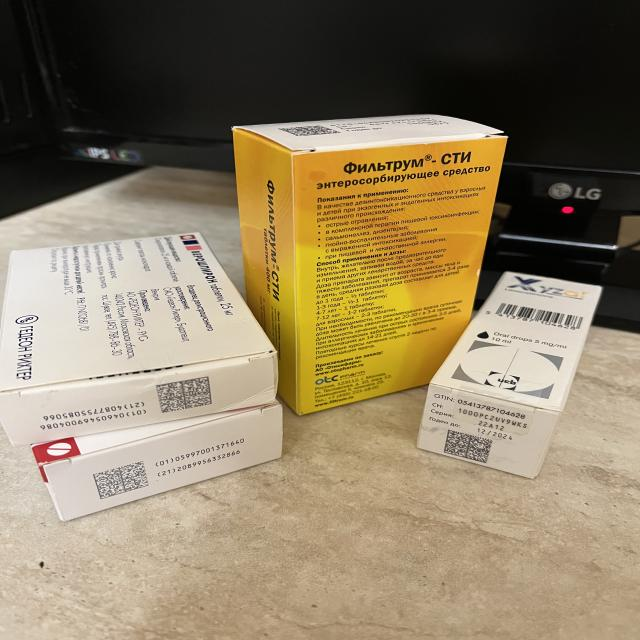datamatrix: (94, 462, 150, 500), (156, 378, 214, 414), (444, 430, 494, 465), (279, 127, 342, 138)
